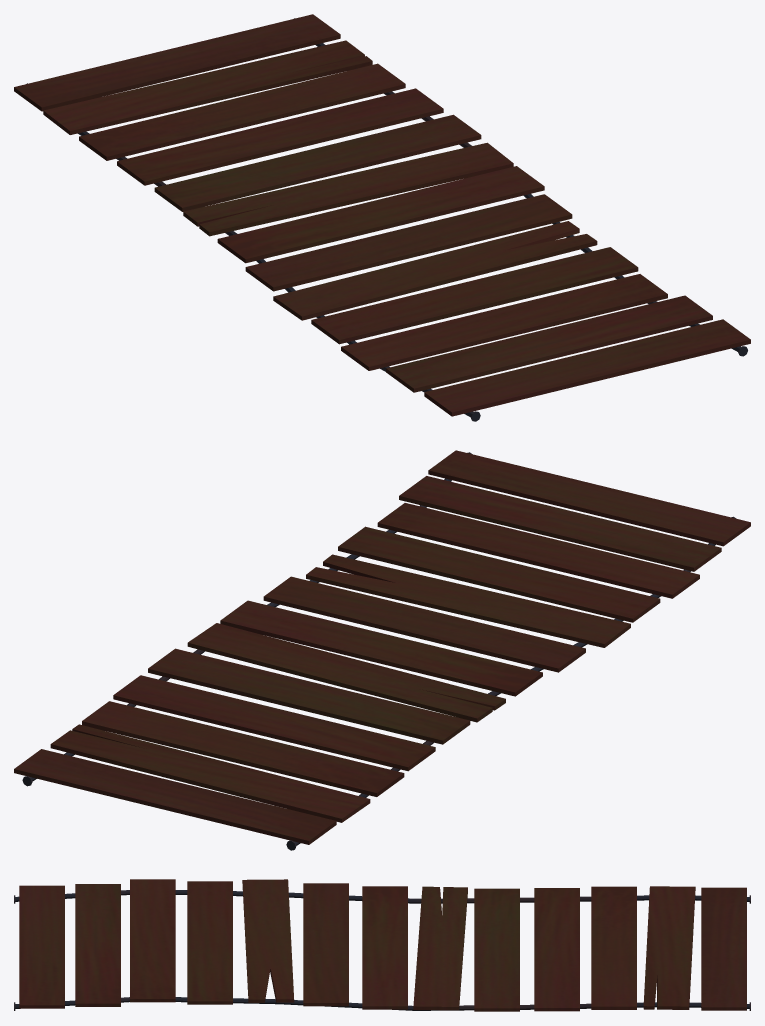
Rendered from Bridge.fbx.
3 renders of one model, top to bottom at view 1: azimuth 30°, elevation 25°; view 2: azimuth 150°, elevation 25°; view 3: azimuth 270°, elevation 25°, orthographic. The views are drawn at different scales.
Visible parts, largest first — view 1: pCube16; view 2: pCube16; view 3: pCube16.
Part boxes in pixels (x1,y1,x2,y2): pCube16: [14, 14, 750, 421]; pCube16: [14, 450, 750, 850]; pCube16: [14, 879, 750, 1011].
Size of the model in its own units: 12.04 by 0.4229 by 29.06.
